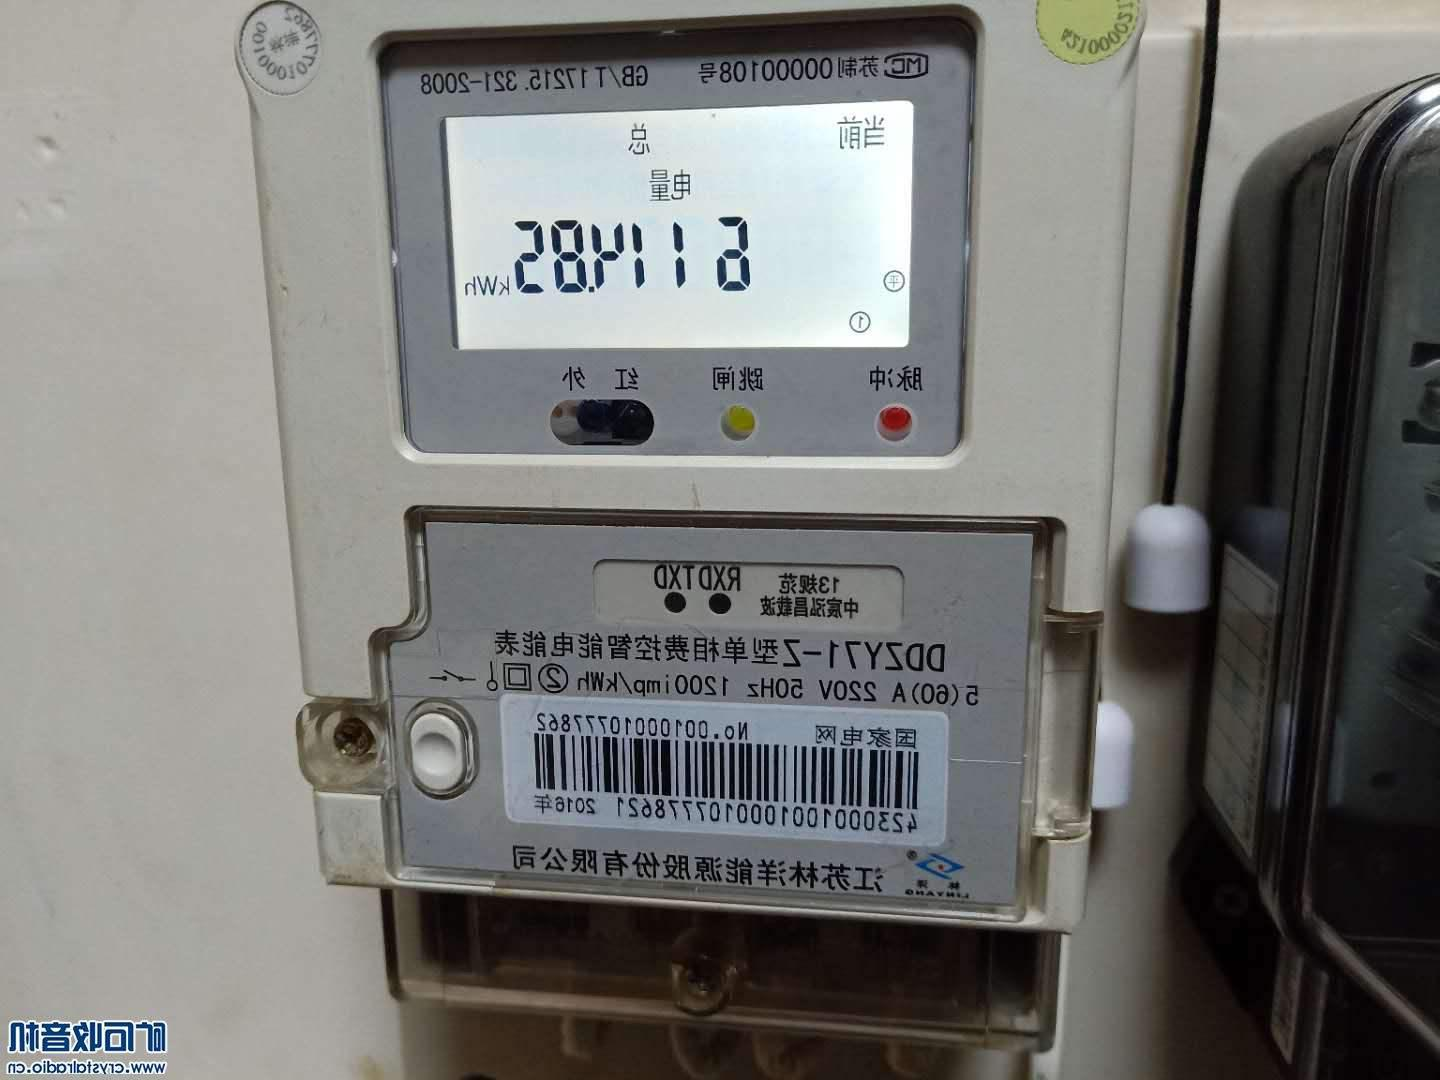digital: (248, 1, 1194, 936)
